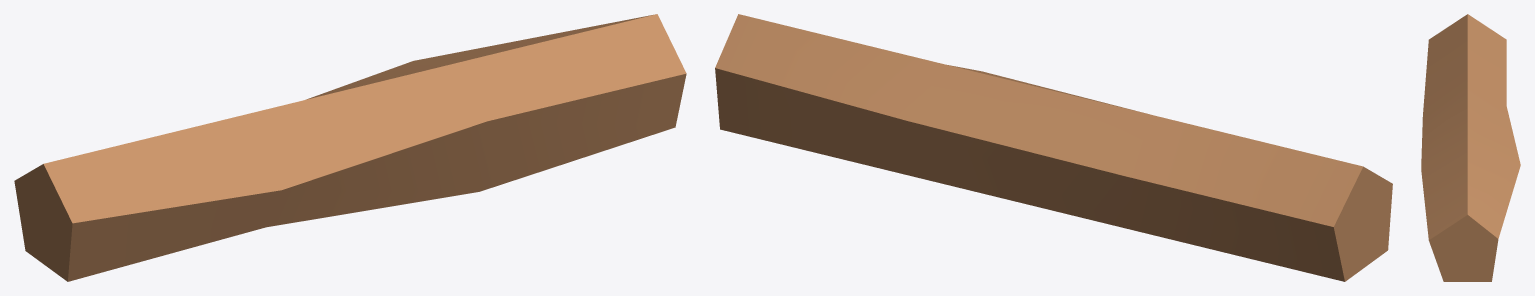
Rendered from wood.fbx.
The picture shows the model from 3 angles, left to right: view 1: azimuth 30°, elevation 25°; view 2: azimuth 150°, elevation 25°; view 3: azimuth 270°, elevation 25°; orthographic projection. The views are drawn at different scales.
Parts seen in each view (by area): view 1: pCylinder1; view 2: pCylinder1; view 3: pCylinder1.
Part boxes in pixels (x1,y1,x2,y2): pCylinder1: [14, 14, 686, 281]; pCylinder1: [715, 14, 1392, 281]; pCylinder1: [1421, 14, 1520, 281].
Bounding box in the file's own units: 11.27 × 1.9 × 2.36.
